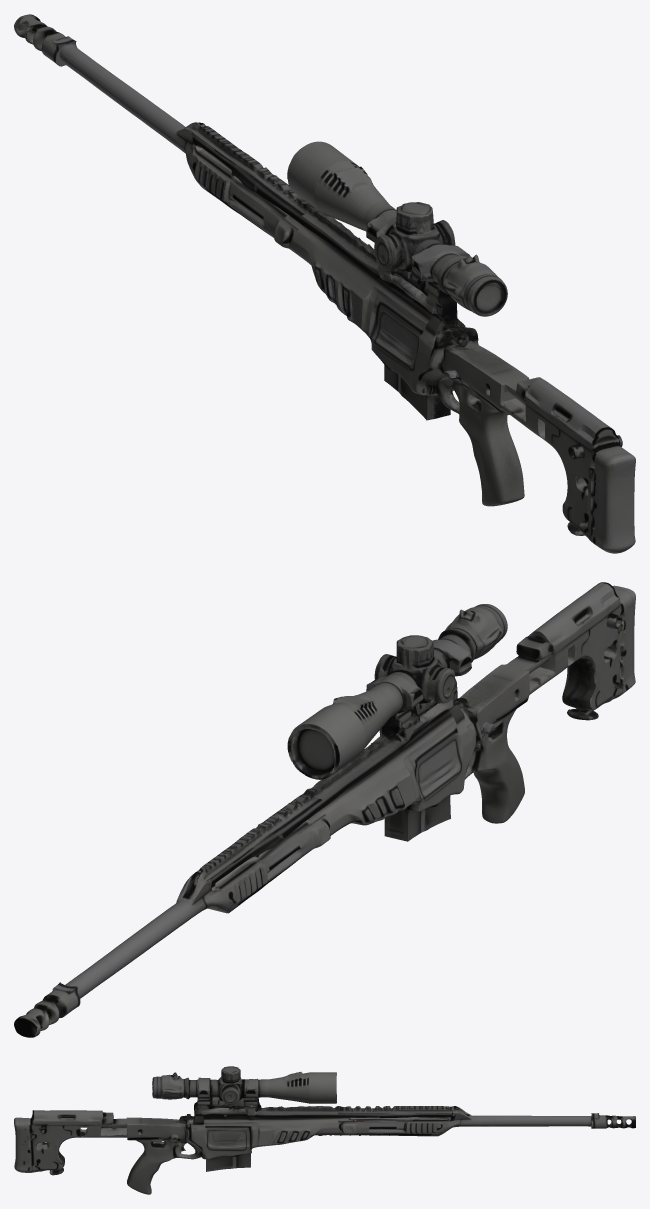
File: SABER1.glb
3 renders of one model, top to bottom at view 1: azimuth 30°, elevation 25°; view 2: azimuth 150°, elevation 25°; view 3: azimuth 270°, elevation 25°, orthographic. The views are drawn at different scales.
Visible parts, largest first — view 1: tripo_node_94c5121e-8982-45fe-b8d5-13f88a6543af; view 2: tripo_node_94c5121e-8982-45fe-b8d5-13f88a6543af; view 3: tripo_node_94c5121e-8982-45fe-b8d5-13f88a6543af.
Boxes of the visible parts, x1,y1,x2,y2 form: tripo_node_94c5121e-8982-45fe-b8d5-13f88a6543af: (14, 14, 635, 553); tripo_node_94c5121e-8982-45fe-b8d5-13f88a6543af: (14, 582, 635, 1037); tripo_node_94c5121e-8982-45fe-b8d5-13f88a6543af: (14, 1066, 635, 1194).
Bounding box in the file's own units: 0.0645 × 0.2194 × 1.
1 material, 1 textured.
